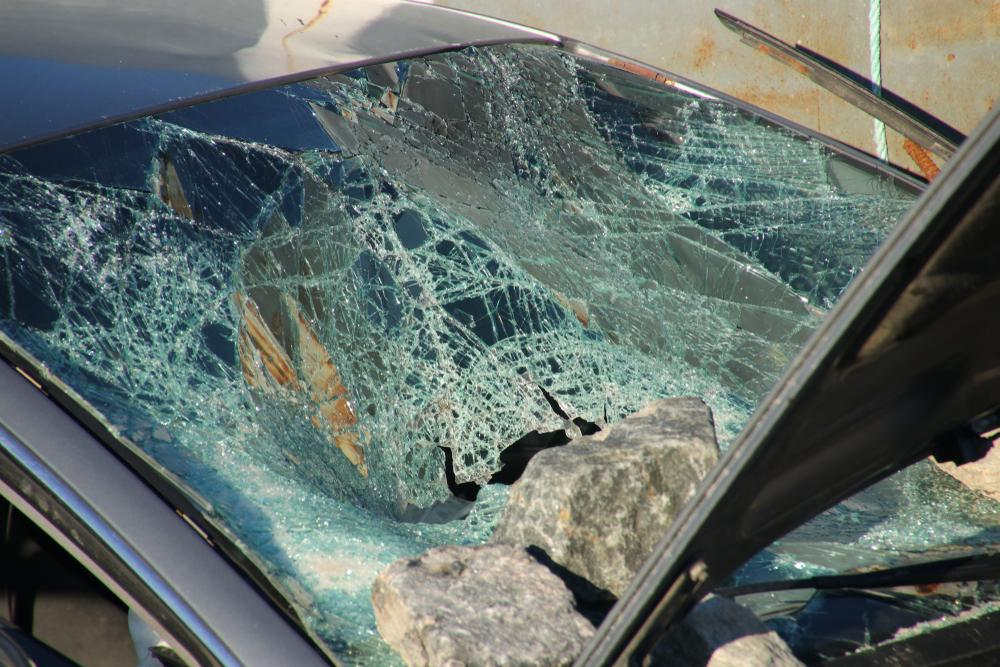glass shatter: (0, 44, 926, 667)
